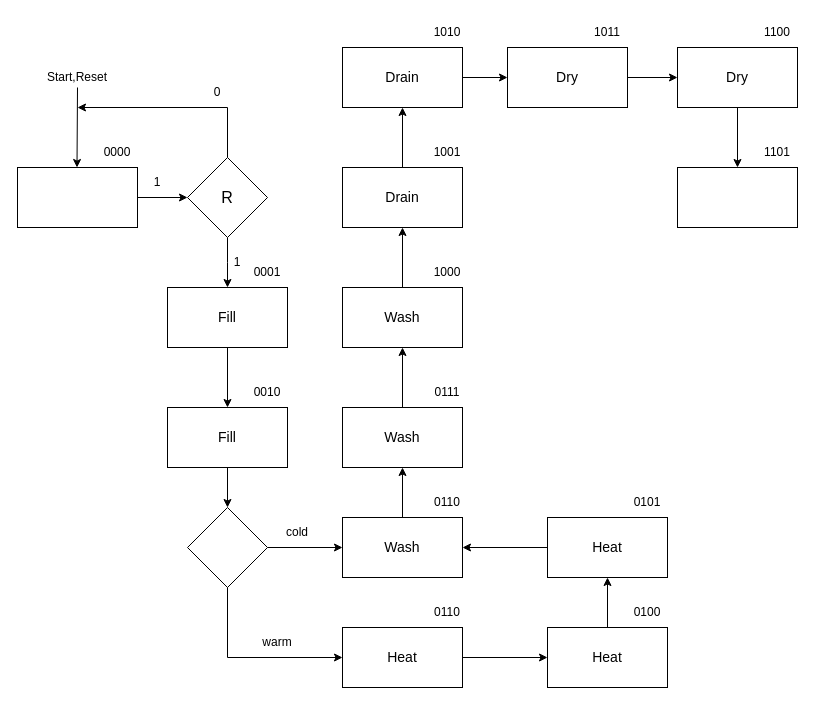
The diagram is 825 pixels wide and 705 high, and some of its shapes have lost their labels. Each missing label, with the centre of its shape:
"Finish" goes at (x=737, y=197).
"Function" goes at (x=227, y=547).
